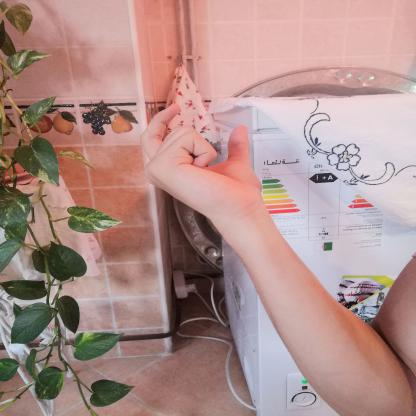NOON: (129, 92, 273, 233)
